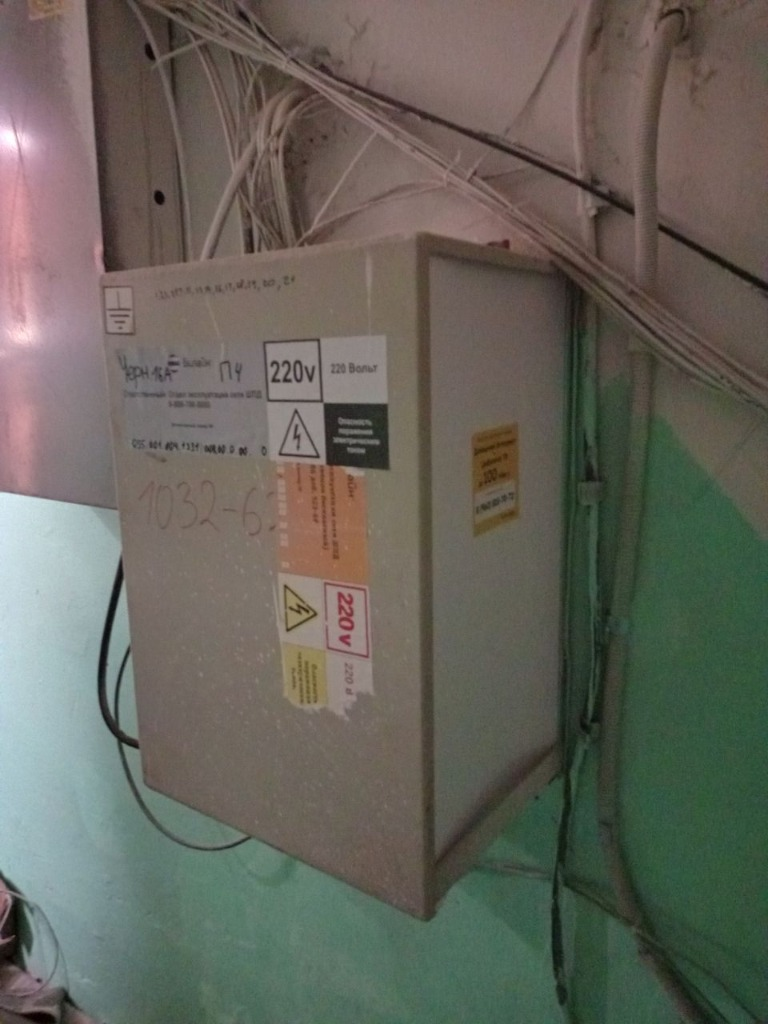sv-5: (85, 214, 600, 932)
